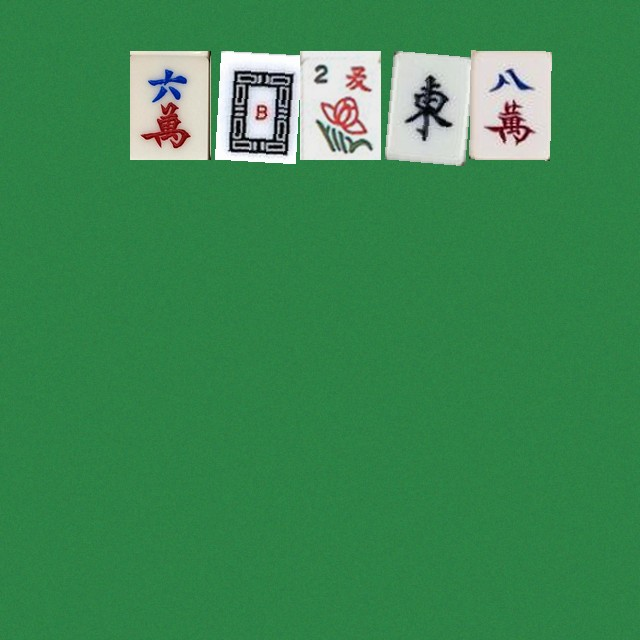tile: (129, 50, 210, 159), (214, 50, 295, 159), (299, 50, 380, 159), (384, 50, 465, 159), (469, 50, 550, 159)
